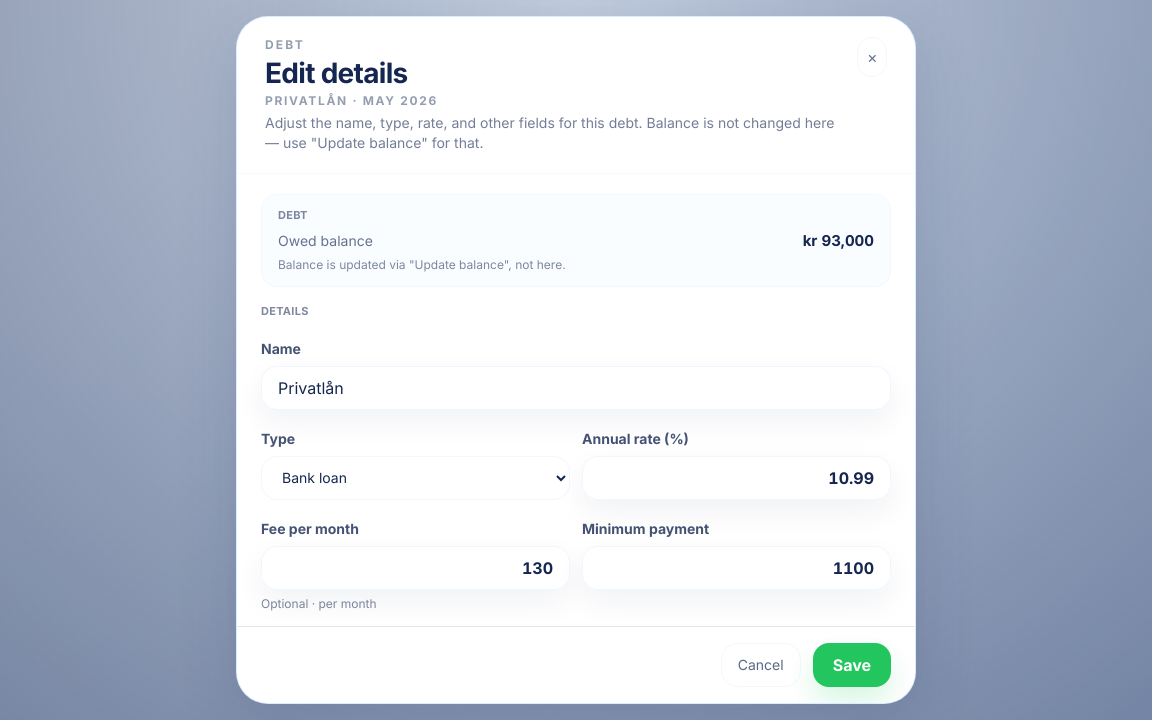
it: DebtDetailsModal › recomputes the preview when APR or fee change so the user sees the principal shift before save
This screenshot has width=1152, height=720.
Replace the text in the field labelled "Annual rate (%)" with "12.99" at [736, 478], box [582,456,891,500]
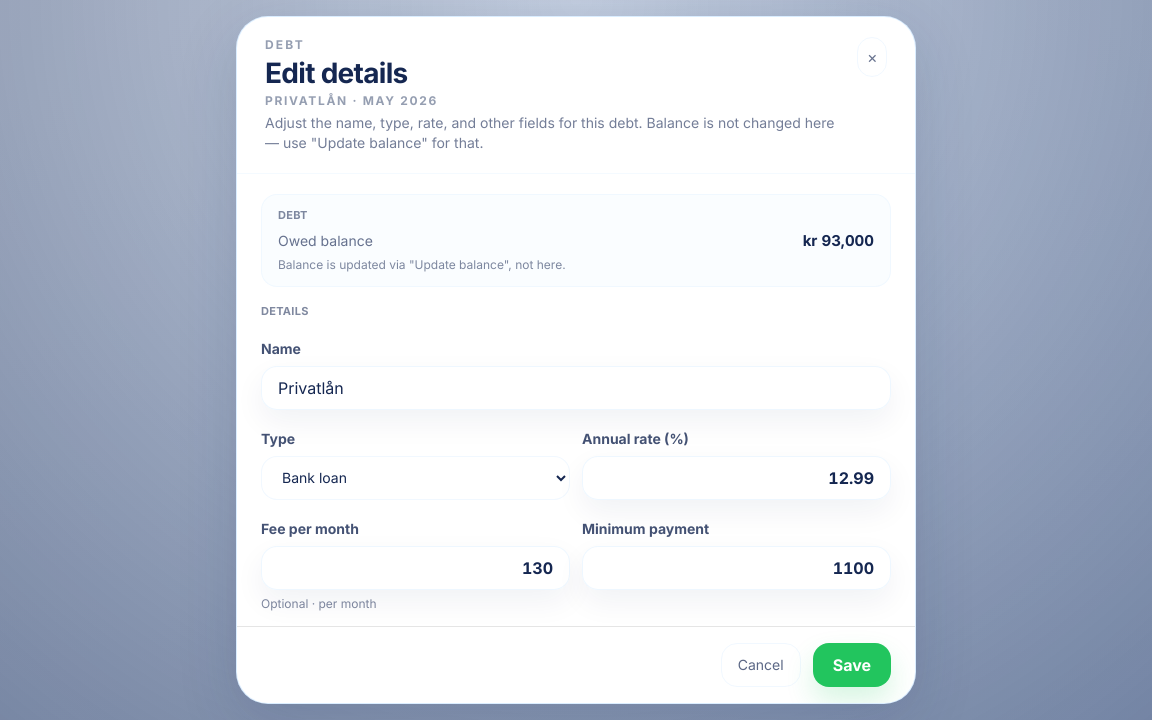
Replace the text in the field labelled "Fee per month" with "149.99" at [416, 568], box [261,546,570,590]
(page scrolled)
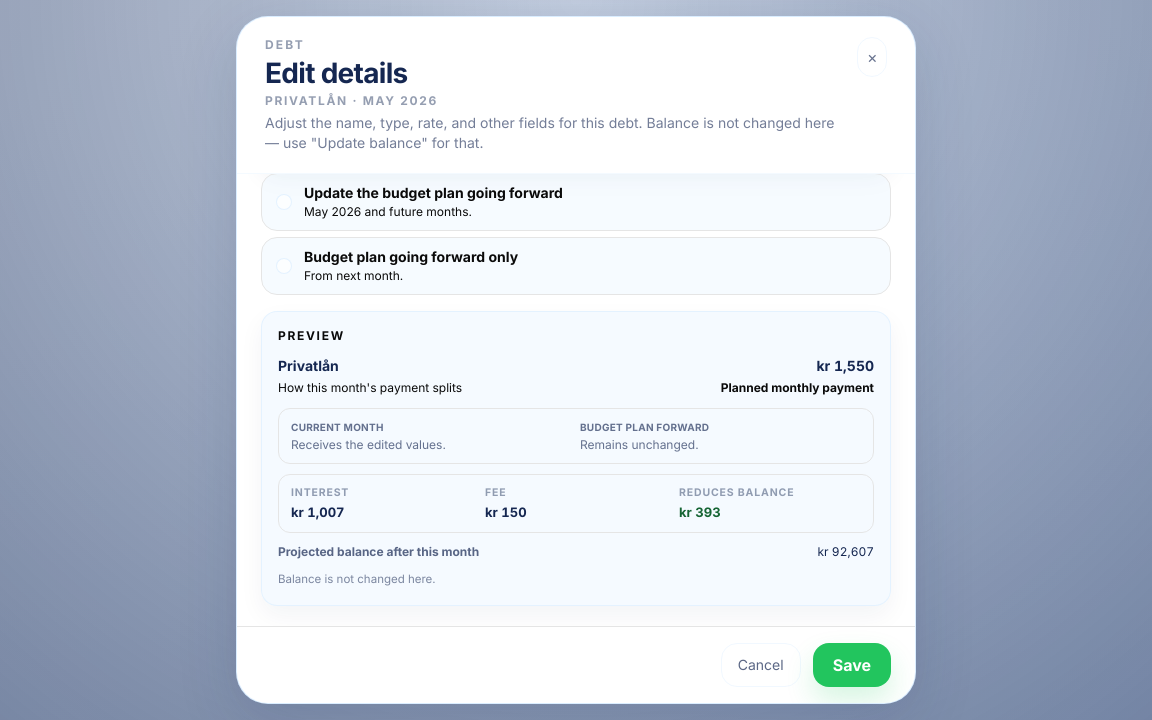
Now the text with test id "debt-details-preview-interest" reads "kr 1,007", box [291,504,344,520]
Now the text with test id "debt-details-preview-principal" shows "393", box [679,504,720,520]
